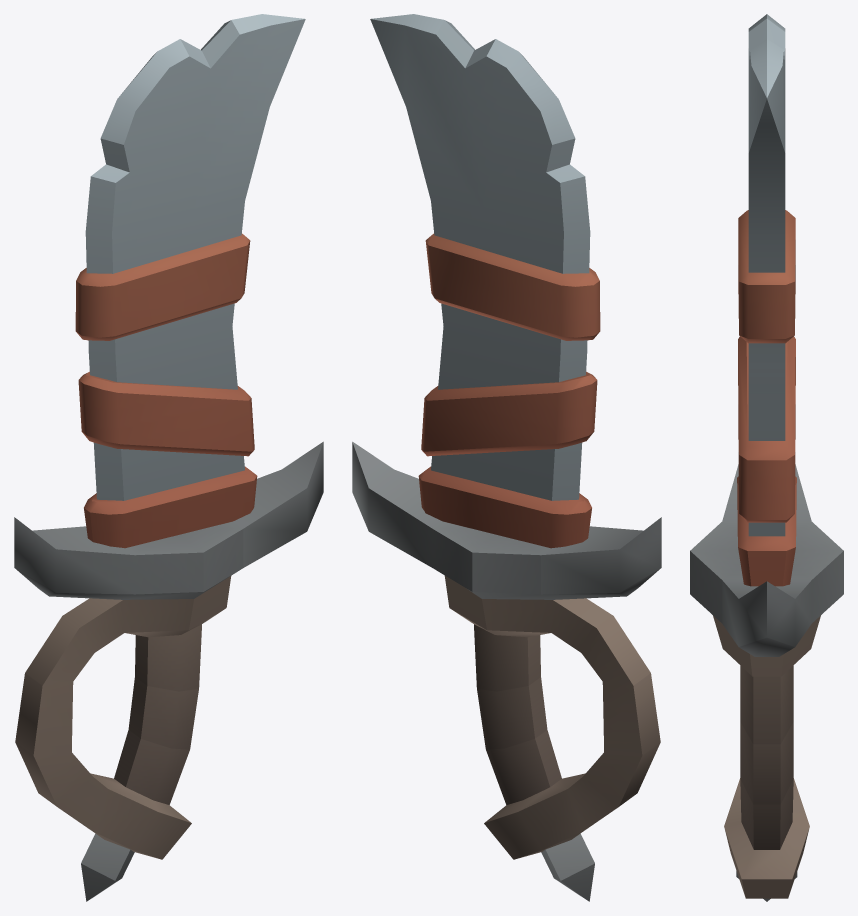
File: Skeleton_Blade.gltf
3 renders of one model, left to right at view 1: azimuth 30°, elevation 25°; view 2: azimuth 150°, elevation 25°; view 3: azimuth 270°, elevation 25°, orthographic. The views are drawn at different scales.
Visible parts, largest first — view 1: Skeleton_Blade; view 2: Skeleton_Blade; view 3: Skeleton_Blade.
Part boxes in pixels (x1,y1,x2,y2): Skeleton_Blade: (14,14,323,901); Skeleton_Blade: (352,14,661,901); Skeleton_Blade: (690,14,843,901).
Size of the model in its own units: 0.5727 by 1.5 by 0.2223.
Materials: 1 (1 with a texture image).
